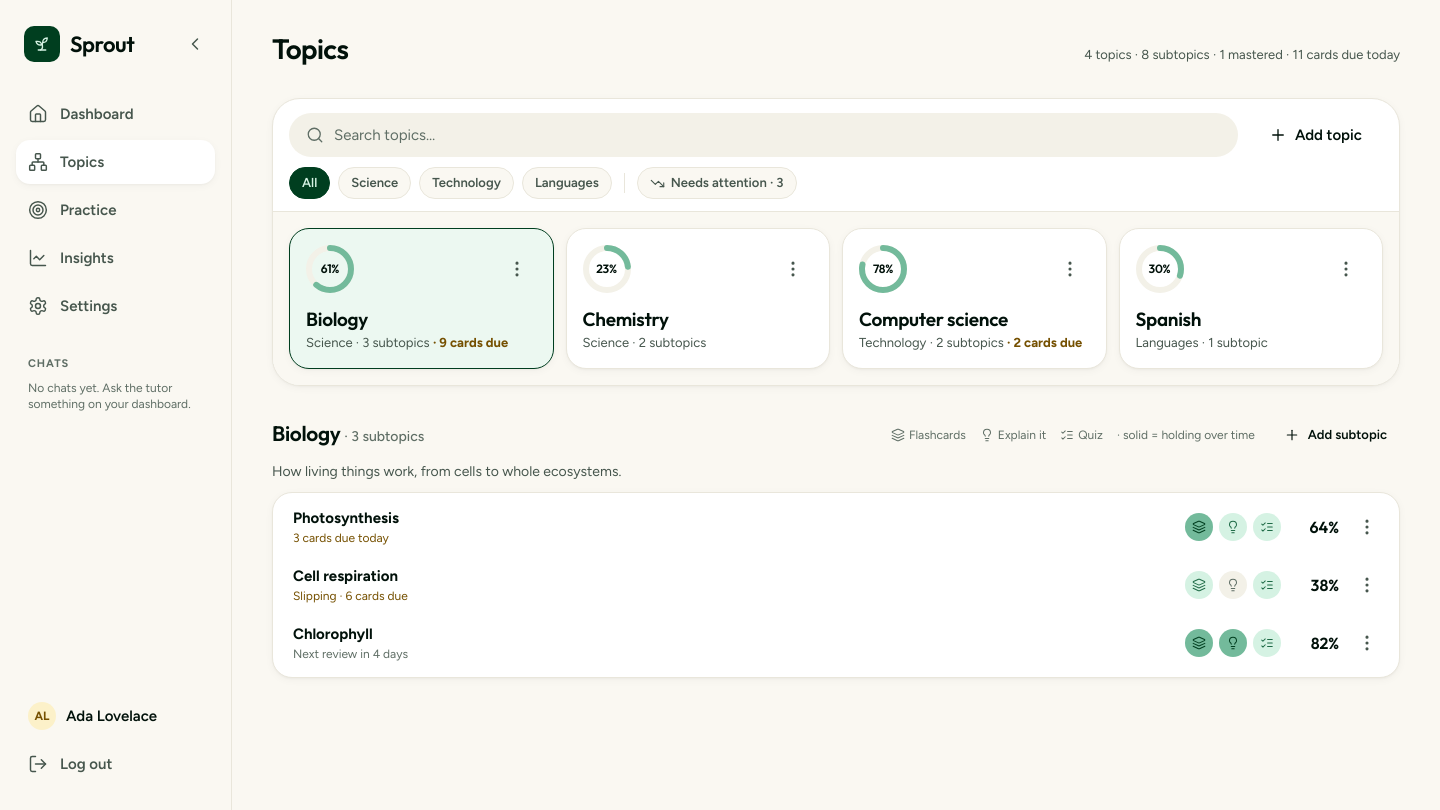
Test: TopicsView › narrows the cards as you search, and clears the filters when nothing matches
Type "recursion" into the search field with test id "search" at (781, 135), box [334,124,1229,146]
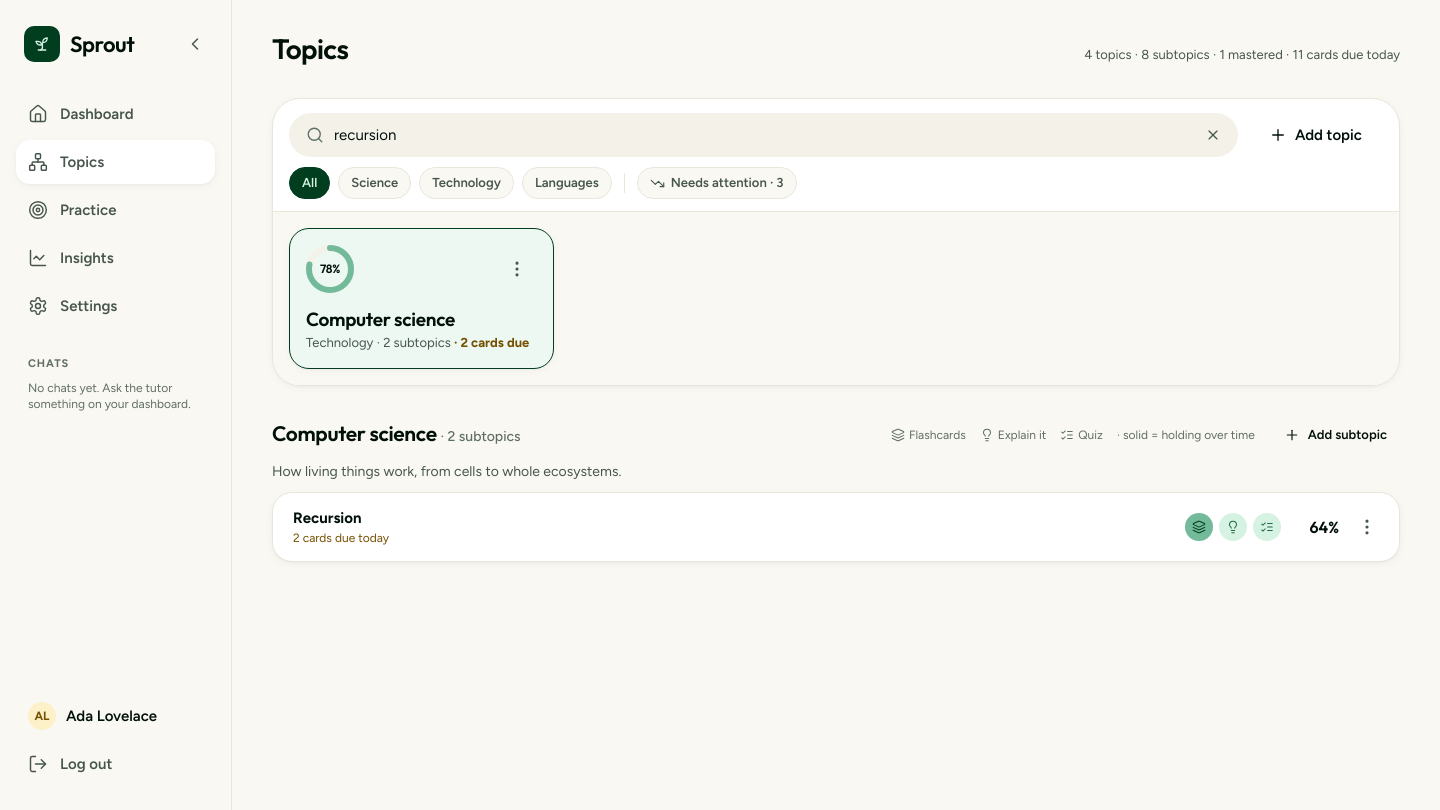
Replace the text in the search field with test id "search" with "astronomy" at (760, 135), box [334,124,1187,146]
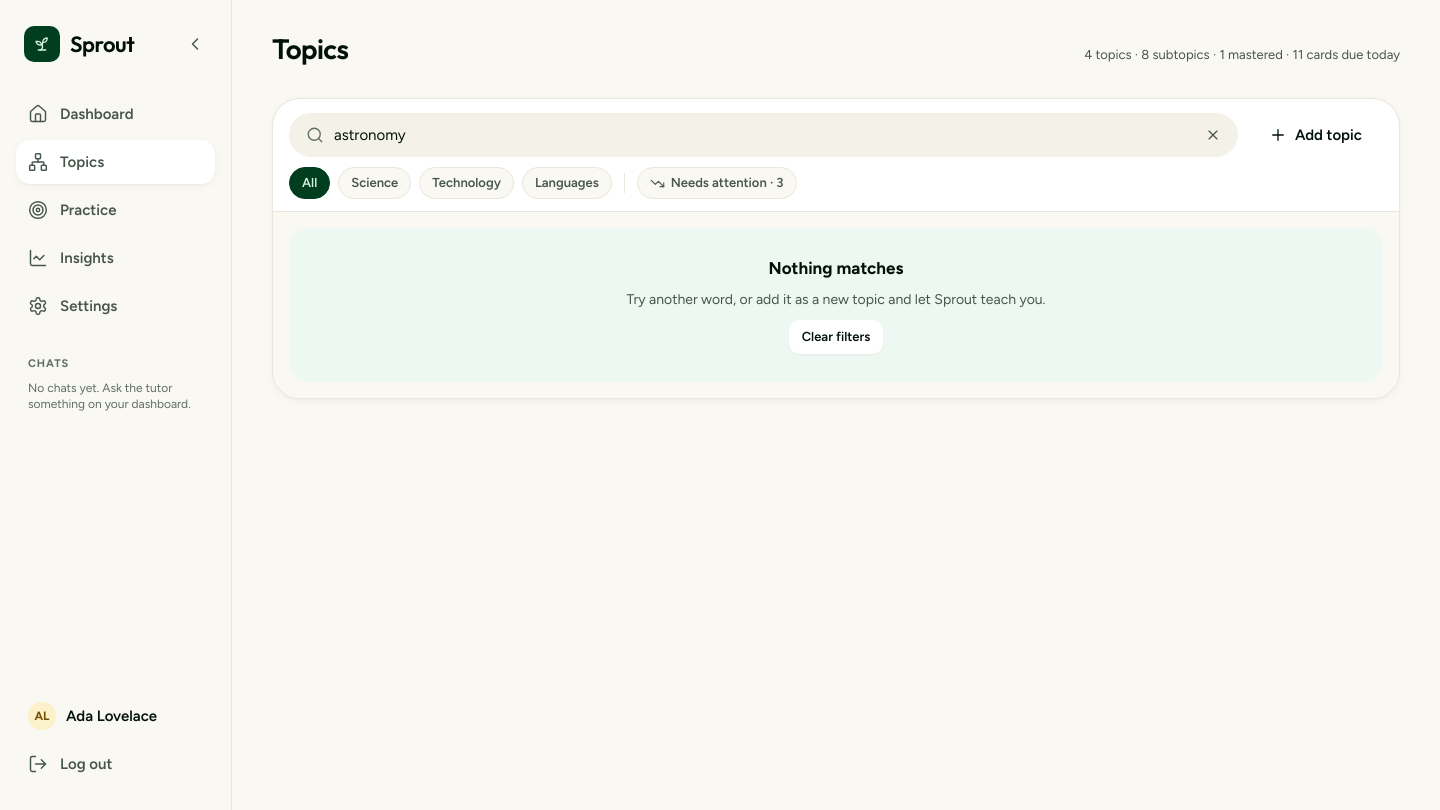
Click the button with test id "clear-filters" at (836, 337), box [789,320,883,354]
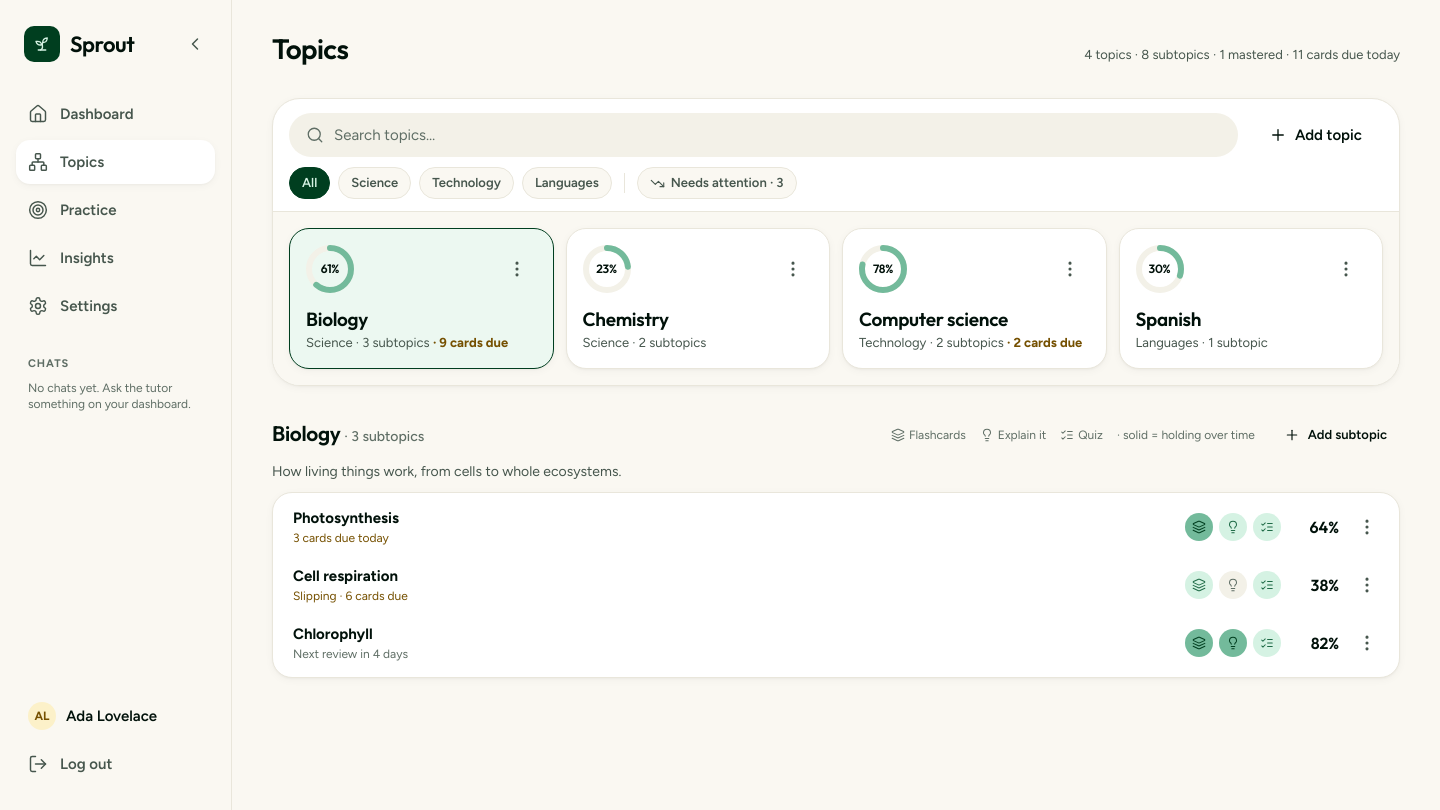
Result: the search field with test id "search" is empty at [334,124,1229,146]
